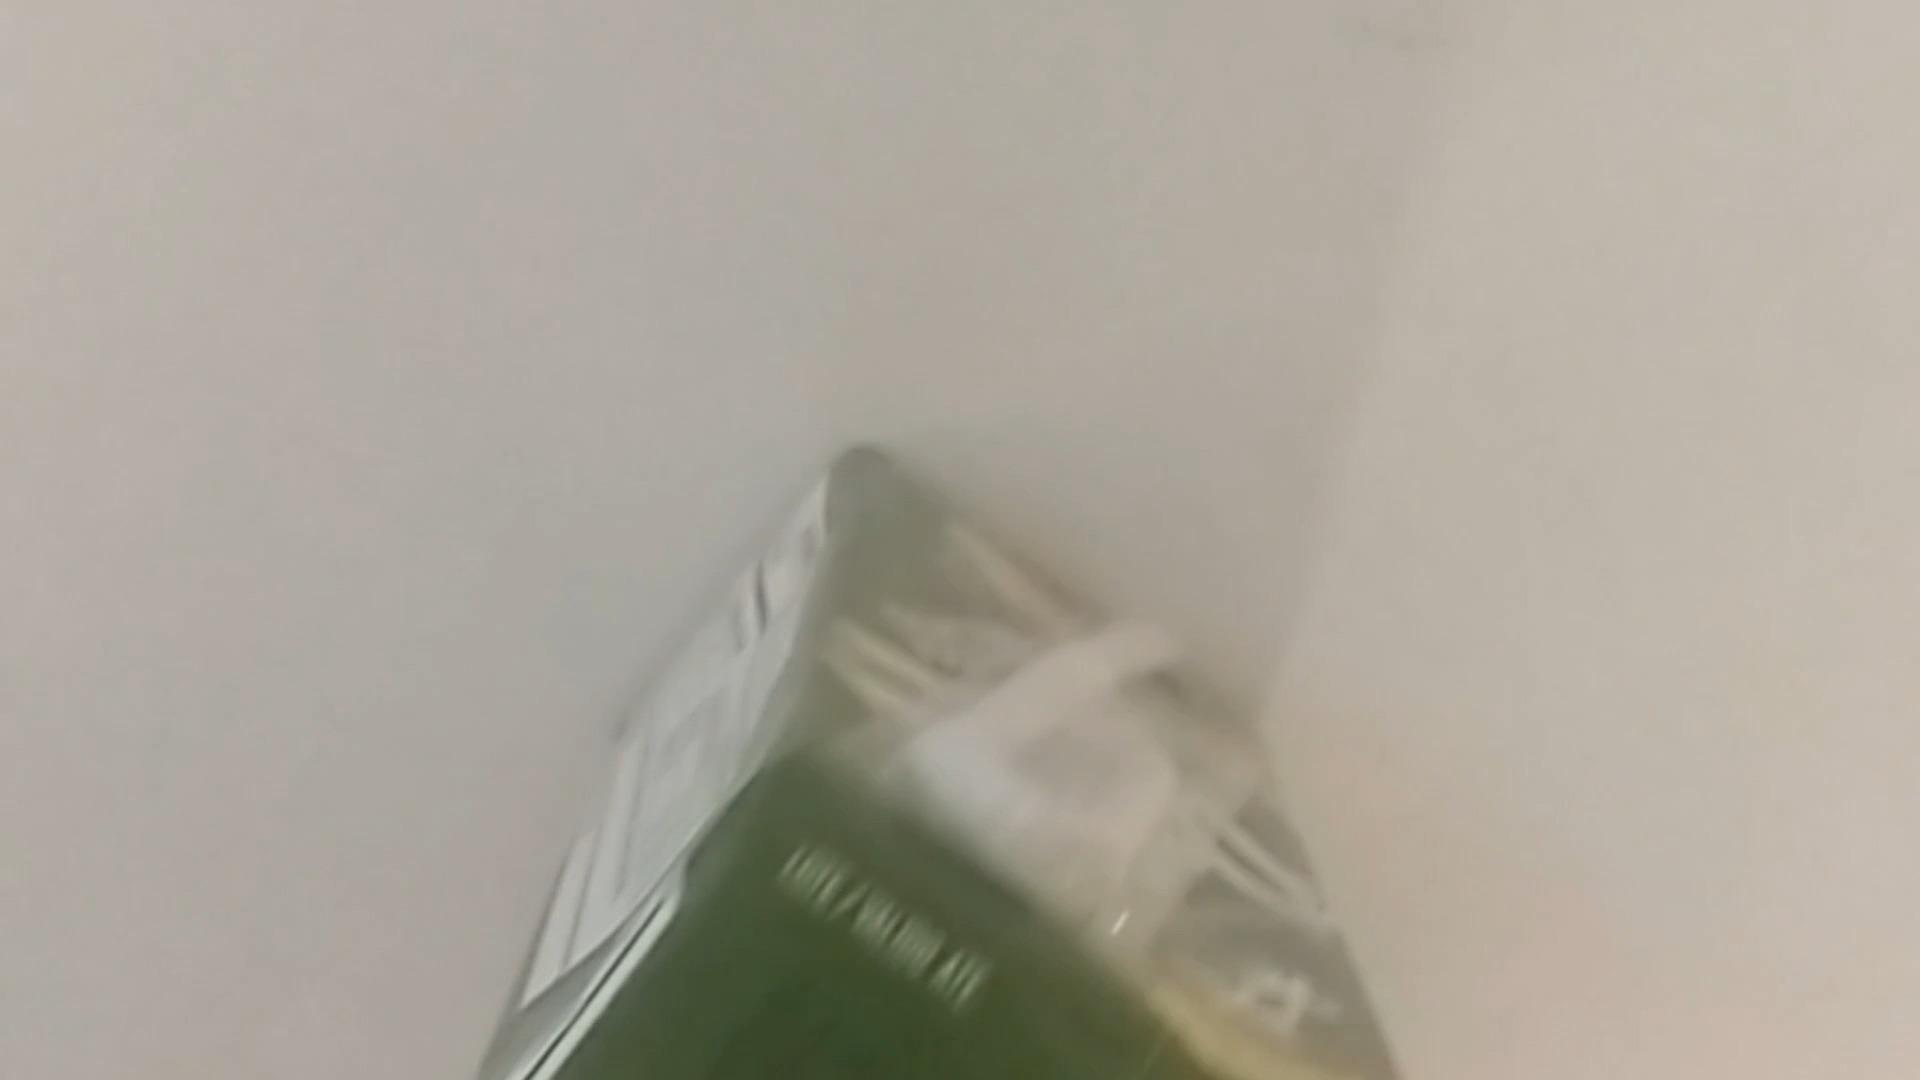coco: (468, 447, 1385, 1080)
